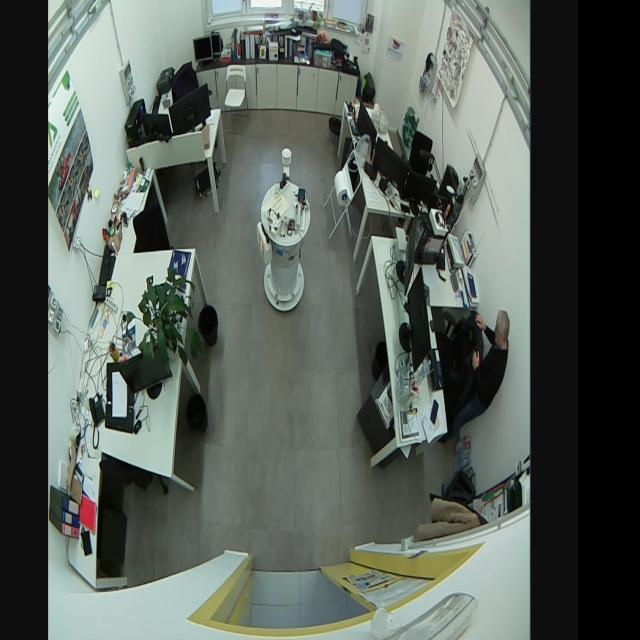Persona: (462, 306, 512, 421)
